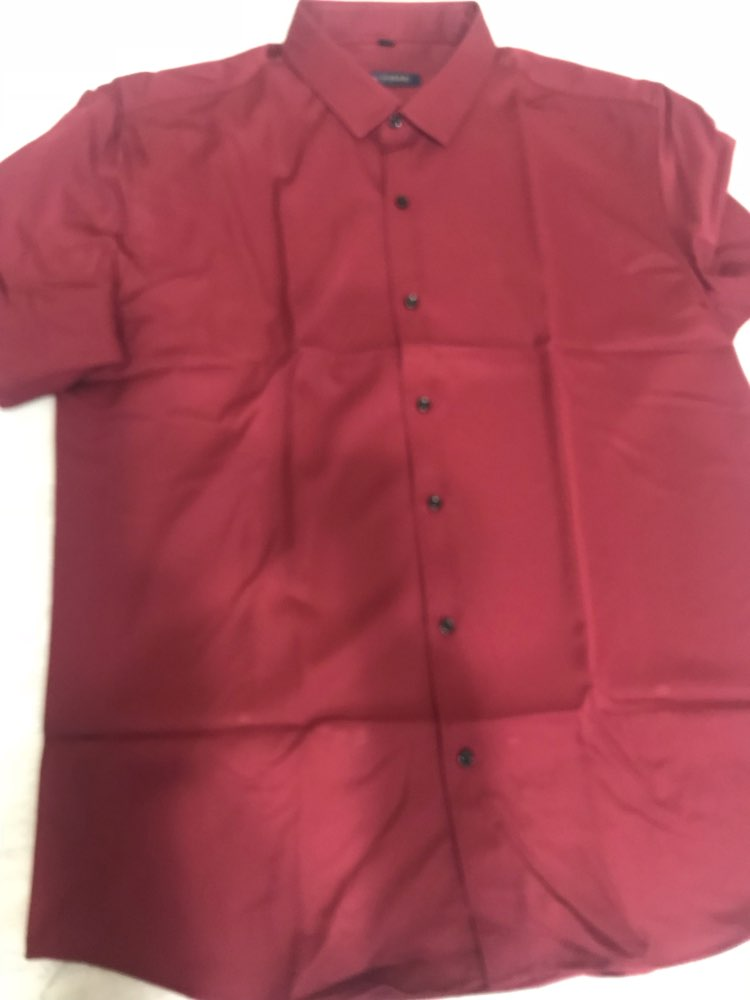shirts: (17, 2, 750, 937)
